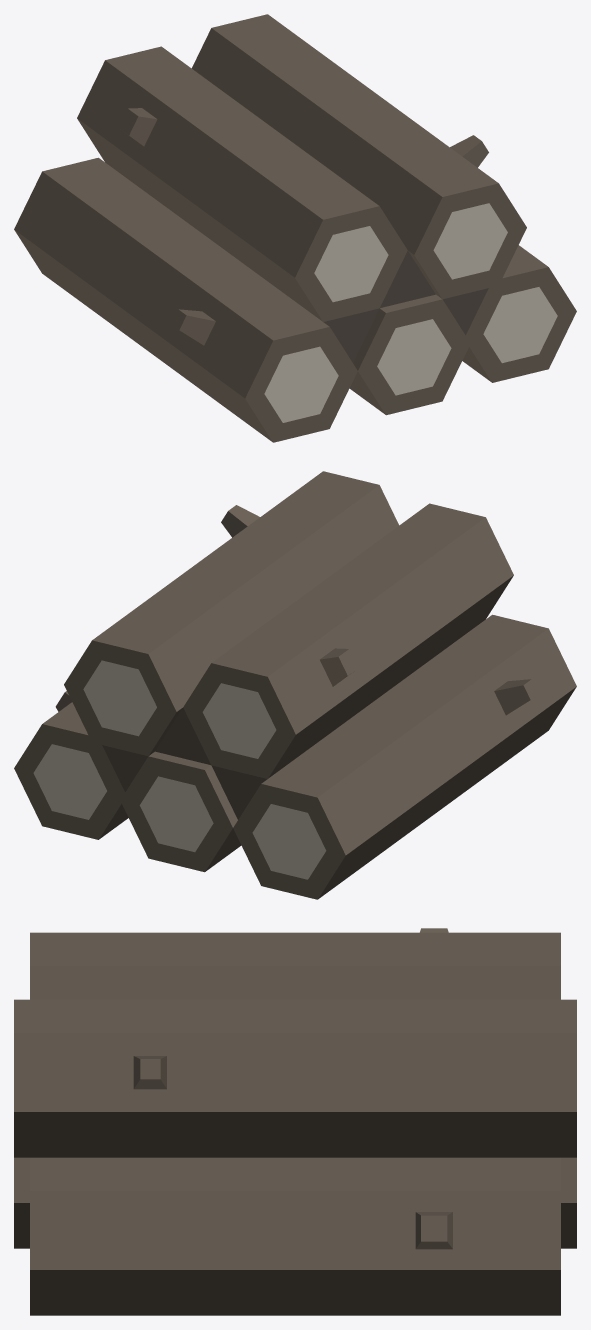
The model's file is logstack.glb.
3 views of the same model, one above another, from view 1: azimuth 30°, elevation 25°; view 2: azimuth 150°, elevation 25°; view 3: azimuth 270°, elevation 25° (orthographic). The views are drawn at different scales.
Parts seen in each view (by area): view 1: logstack; view 2: logstack; view 3: logstack.
Part boxes in pixels (bbox=[...]): logstack: bbox=[14, 14, 576, 442]; logstack: bbox=[14, 471, 576, 899]; logstack: bbox=[14, 928, 576, 1315].
Bounding box in the file's own units: 0.634 × 0.3464 × 0.71.
